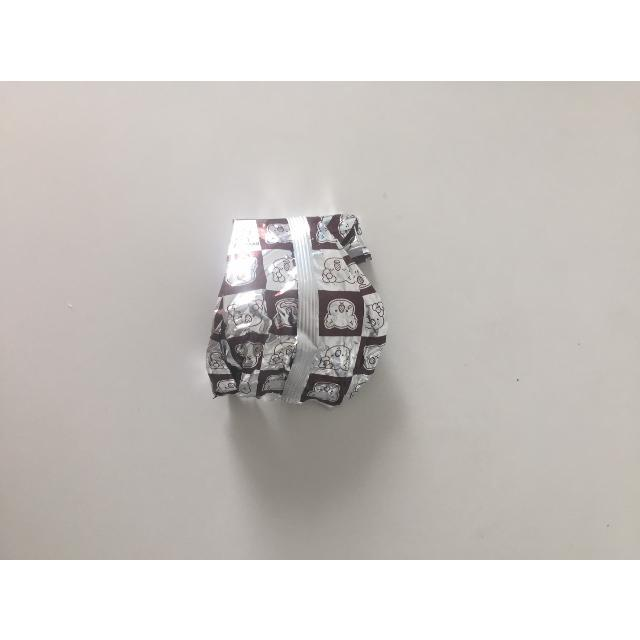Paquete de plastico: (205, 214, 386, 404)
